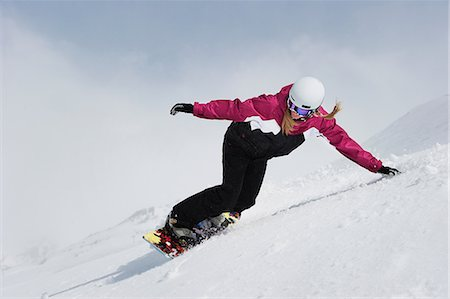snowboarder: (137, 43, 418, 272)
